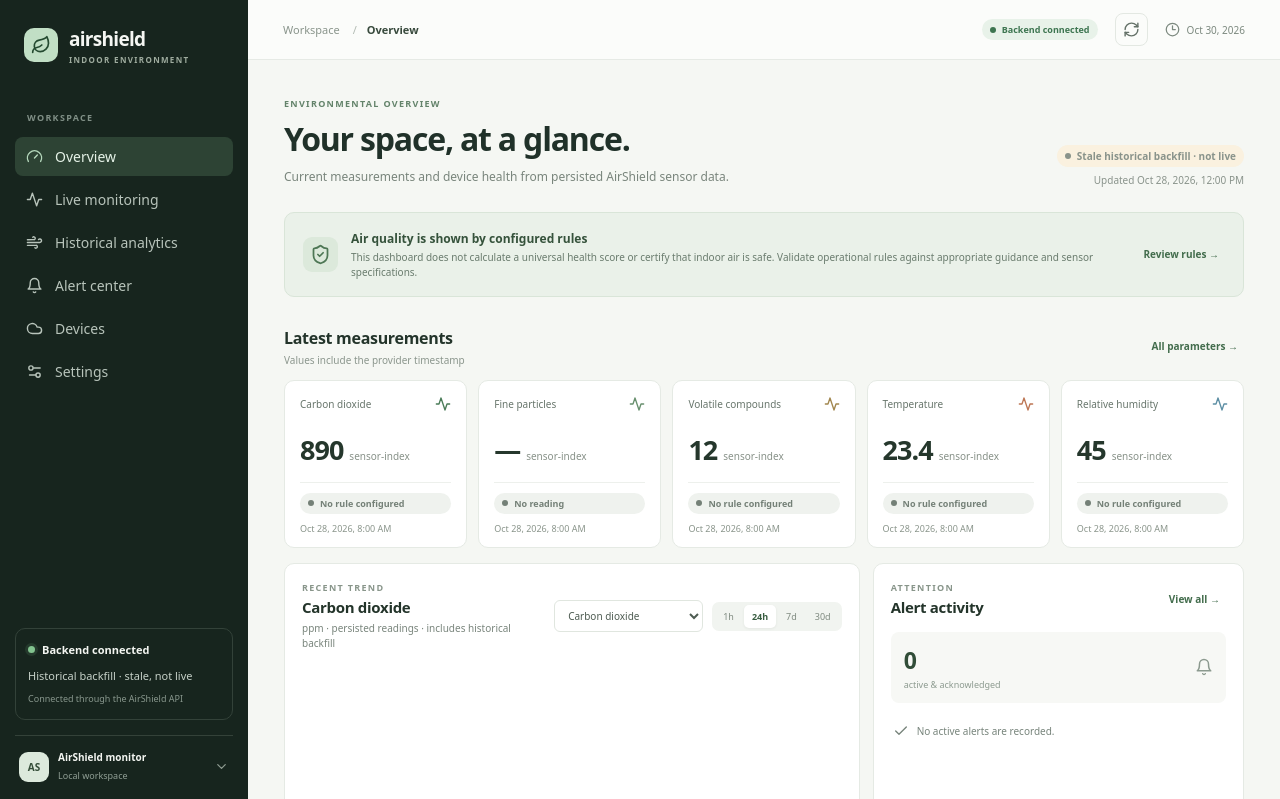
AirShield application › labels backfilled analytics separately and keeps an old latest feed stale
Check: the text "Stale historical backfill · not live" is shown, box 1057,145 -> 1244,167
Click the button "Historical analytics" at (124, 242), box 15,223 -> 233,262
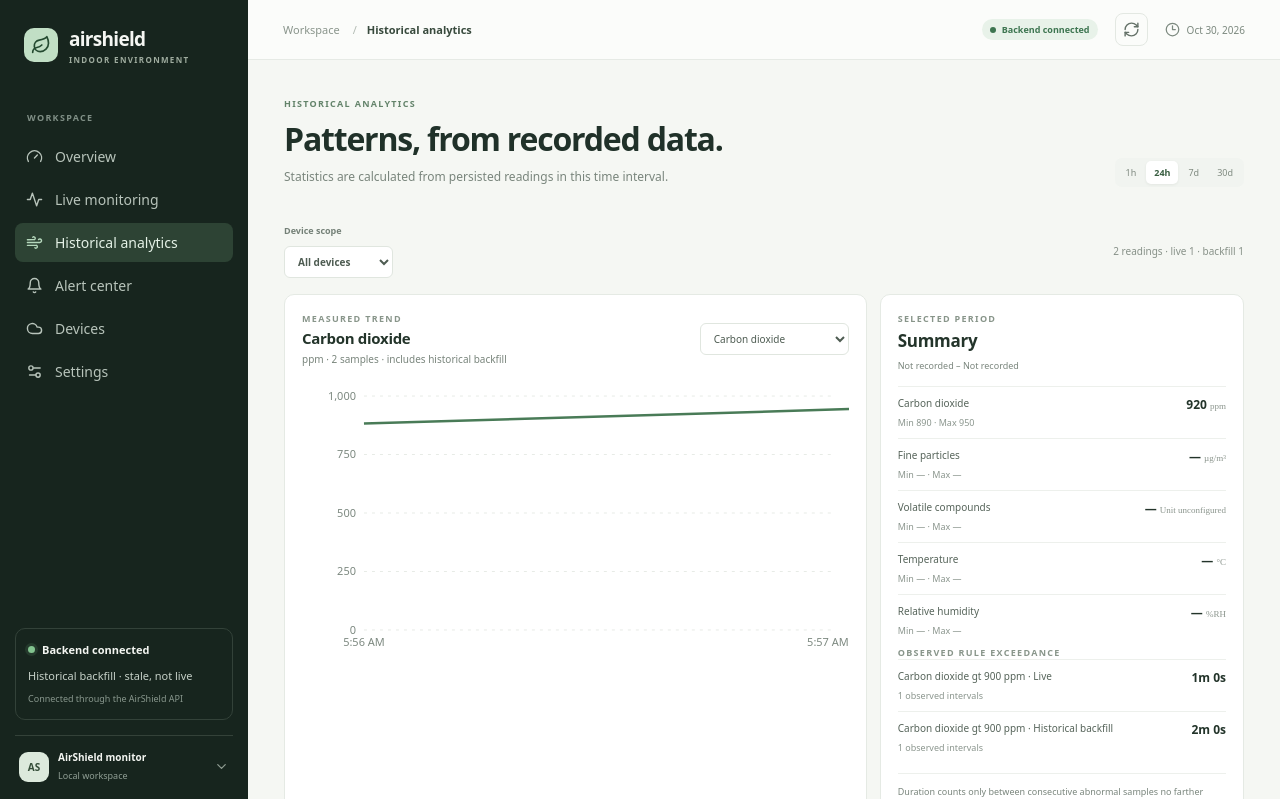
Check: the text "2 readings · live 1 · backfill 1" is shown, box 1113,244 -> 1244,258
Check: the text "ppm · 2 samples · includes historical backfill" is shown, box 302,352 -> 507,367
Check: the text "2m 0s" is shown, box 1191,720 -> 1226,738
